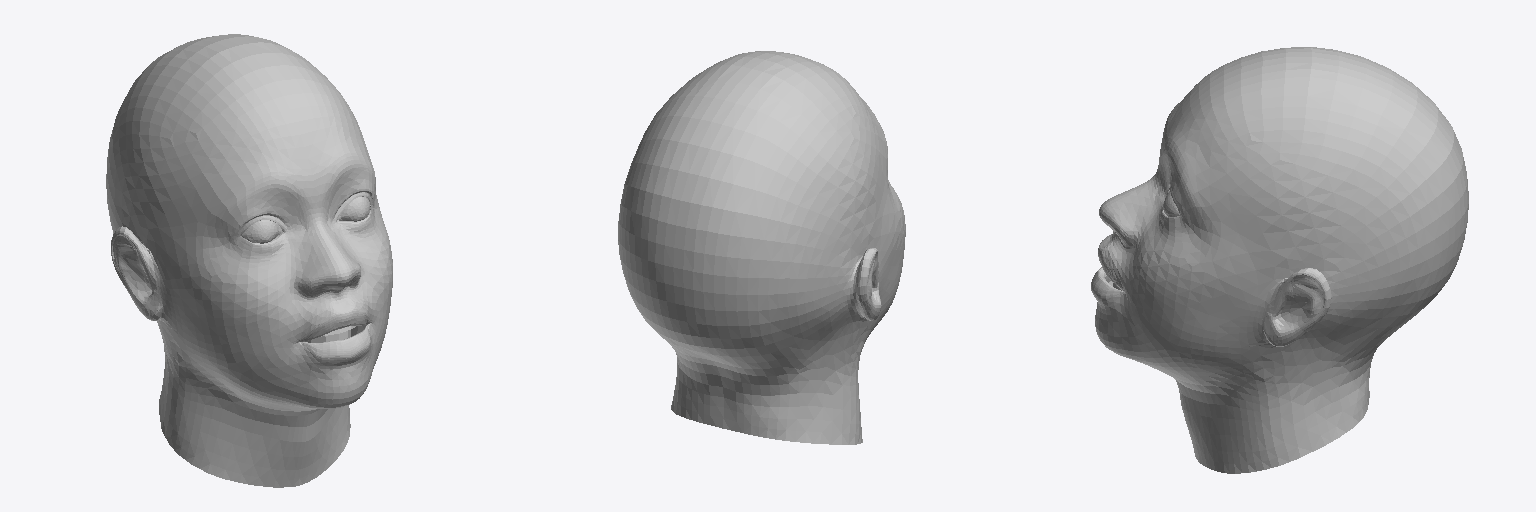
The model's file is Jane_hi_all_ExpressionSurprise.obj.
3 renders of one model, left to right at view 1: azimuth 30°, elevation 25°; view 2: azimuth 150°, elevation 25°; view 3: azimuth 270°, elevation 25°, orthographic.
Visible parts, largest first — view 1: FaceGen; view 2: FaceGen; view 3: FaceGen.
Boxes of the visible parts, x1,y1,x2,y2 form: FaceGen: [106, 34, 392, 487]; FaceGen: [618, 51, 905, 444]; FaceGen: [1091, 47, 1468, 473].
Size of the model in its own units: 181 by 281 by 242.